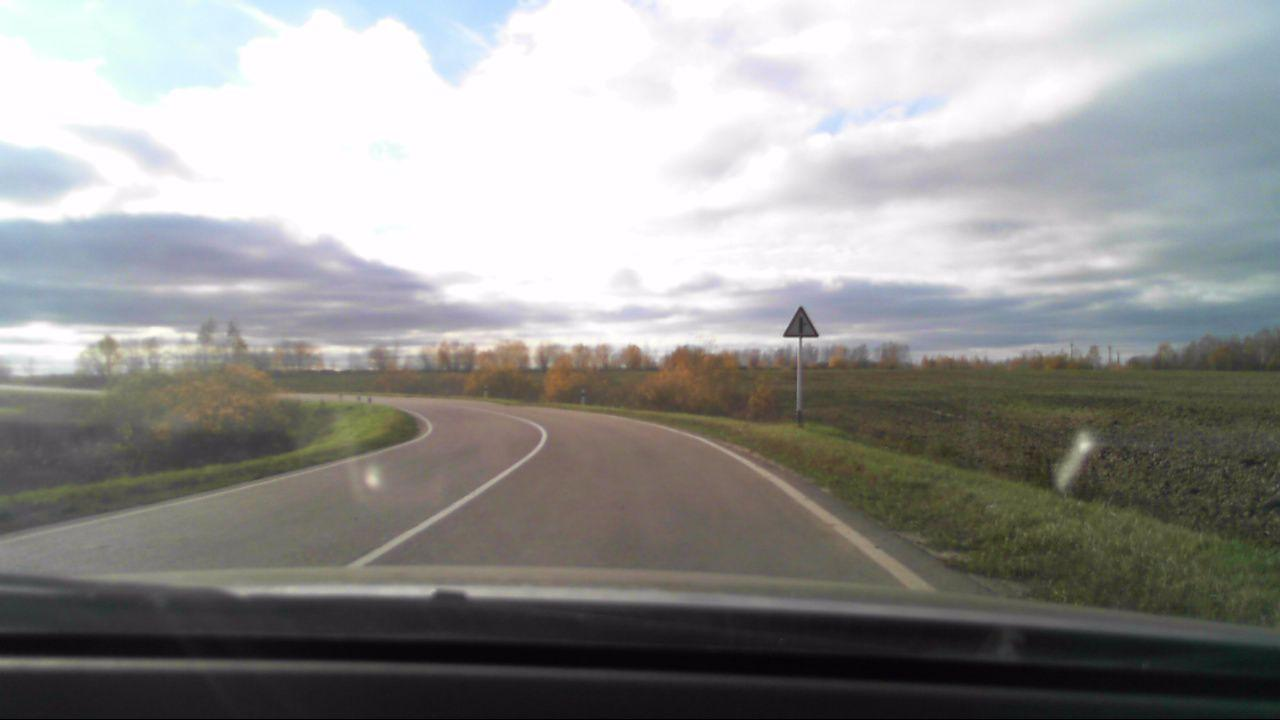2_3_2: (782, 302, 822, 340)
